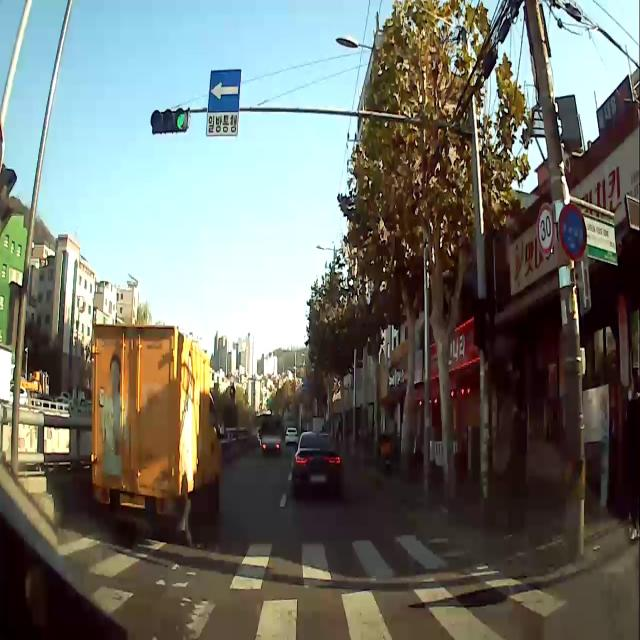Green Light: (175, 107, 188, 133)
